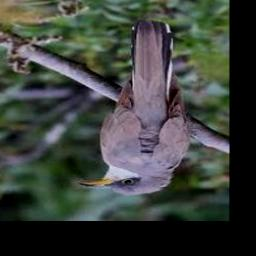Cuckoo: (79, 21, 191, 196)
